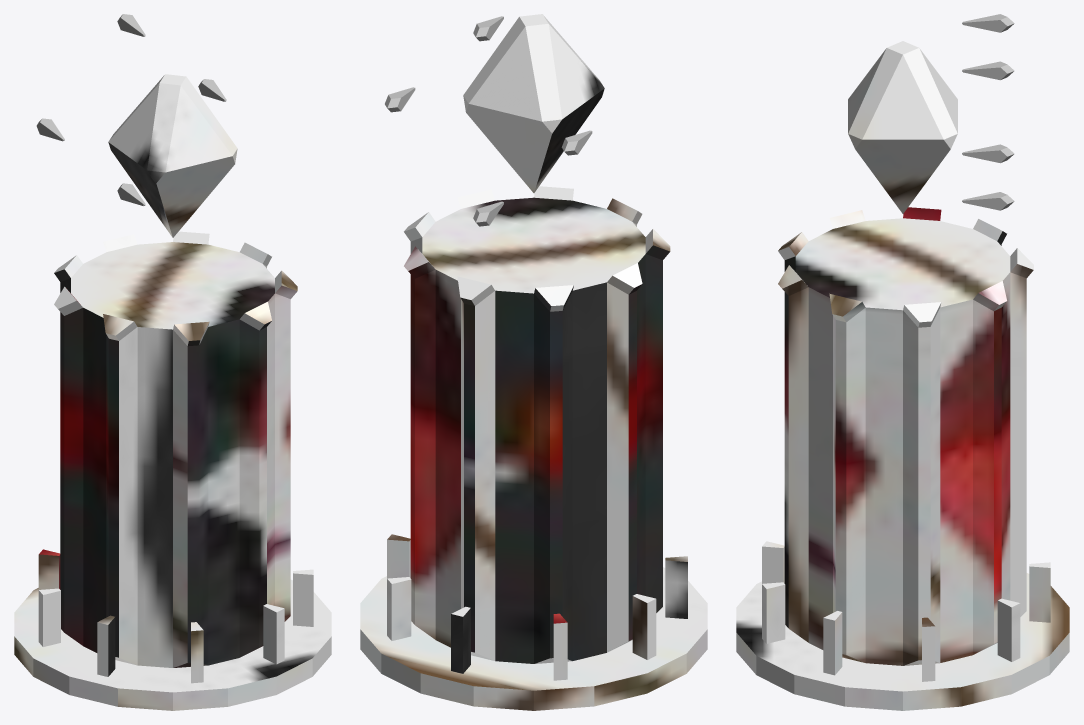
The model's file is FireTower.FBX.
3 views of the same model, side by side, from view 1: azimuth 30°, elevation 25°; view 2: azimuth 150°, elevation 25°; view 3: azimuth 270°, elevation 25° (orthographic). The views are drawn at different scales.
Parts seen in each view (by area): view 1: Cylinder001, Object; view 2: Cylinder001, Object; view 3: Cylinder001, Object.
Part boxes in pixels (x1,y1,x2,y2): Cylinder001: (14,74,331,710); Object: (36,14,226,206); Cylinder001: (360,14,707,710); Object: (385,16,592,226); Cylinder001: (736,41,1069,710); Object: (962,14,1014,210).
Size of the model in its own units: 67.92 by 138 by 66.89.
